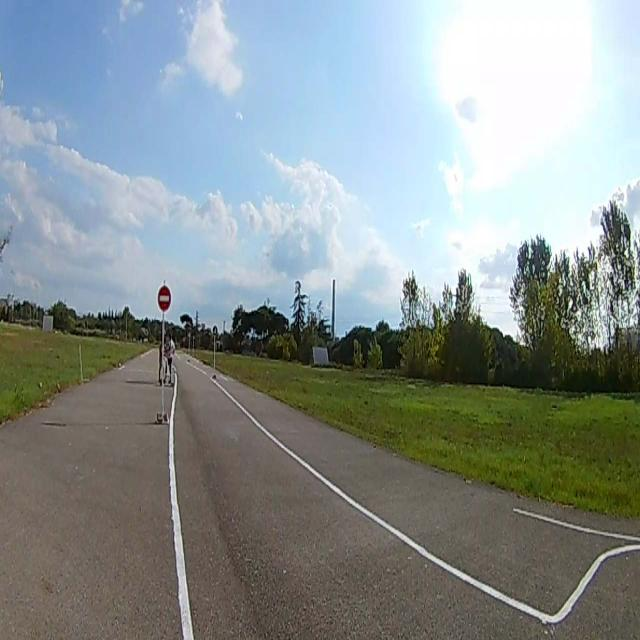girisyok: (157, 286, 172, 310)
